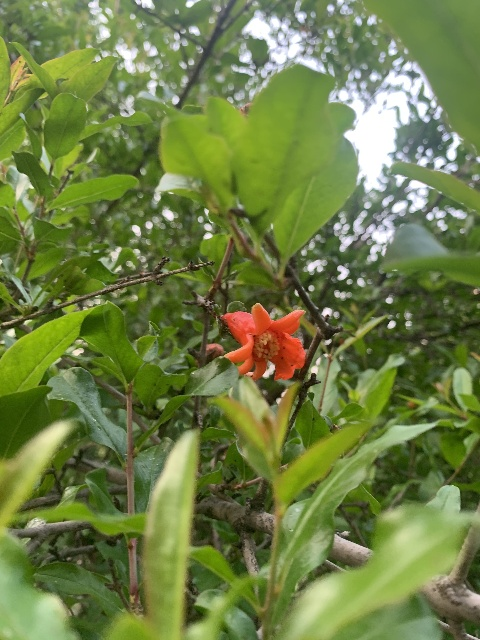bud: (205, 343, 224, 358)
flower: (220, 302, 306, 381)
